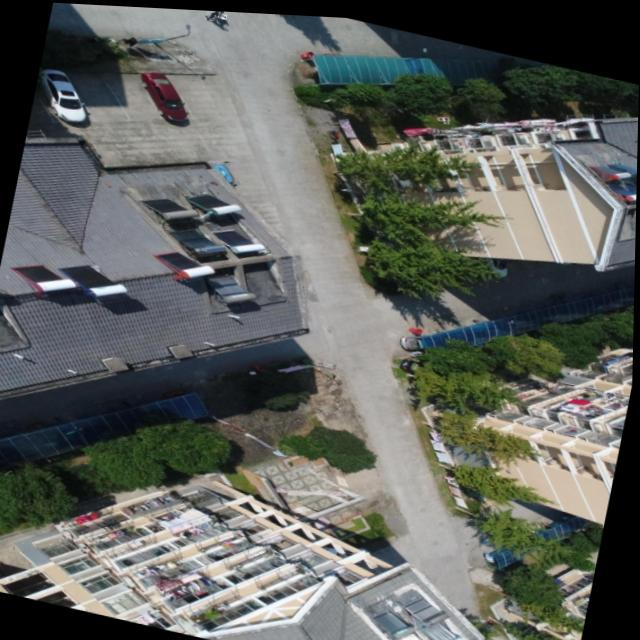Person: (203, 8, 224, 19), (216, 9, 226, 17)
